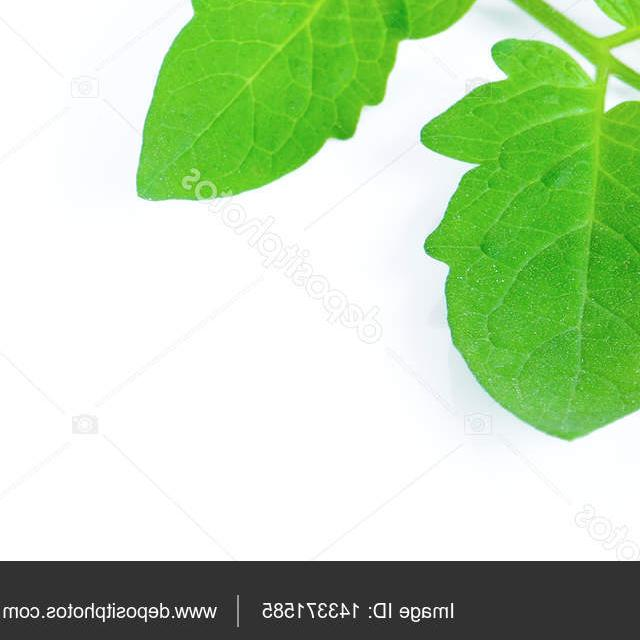Tomato leaf: (413, 30, 640, 464), (104, 0, 422, 228), (571, 0, 640, 119)
